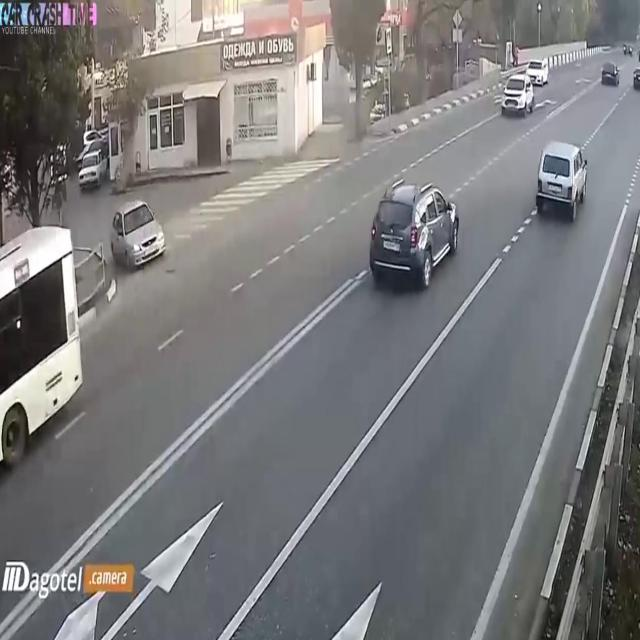non_accident: (495, 54, 552, 127)
